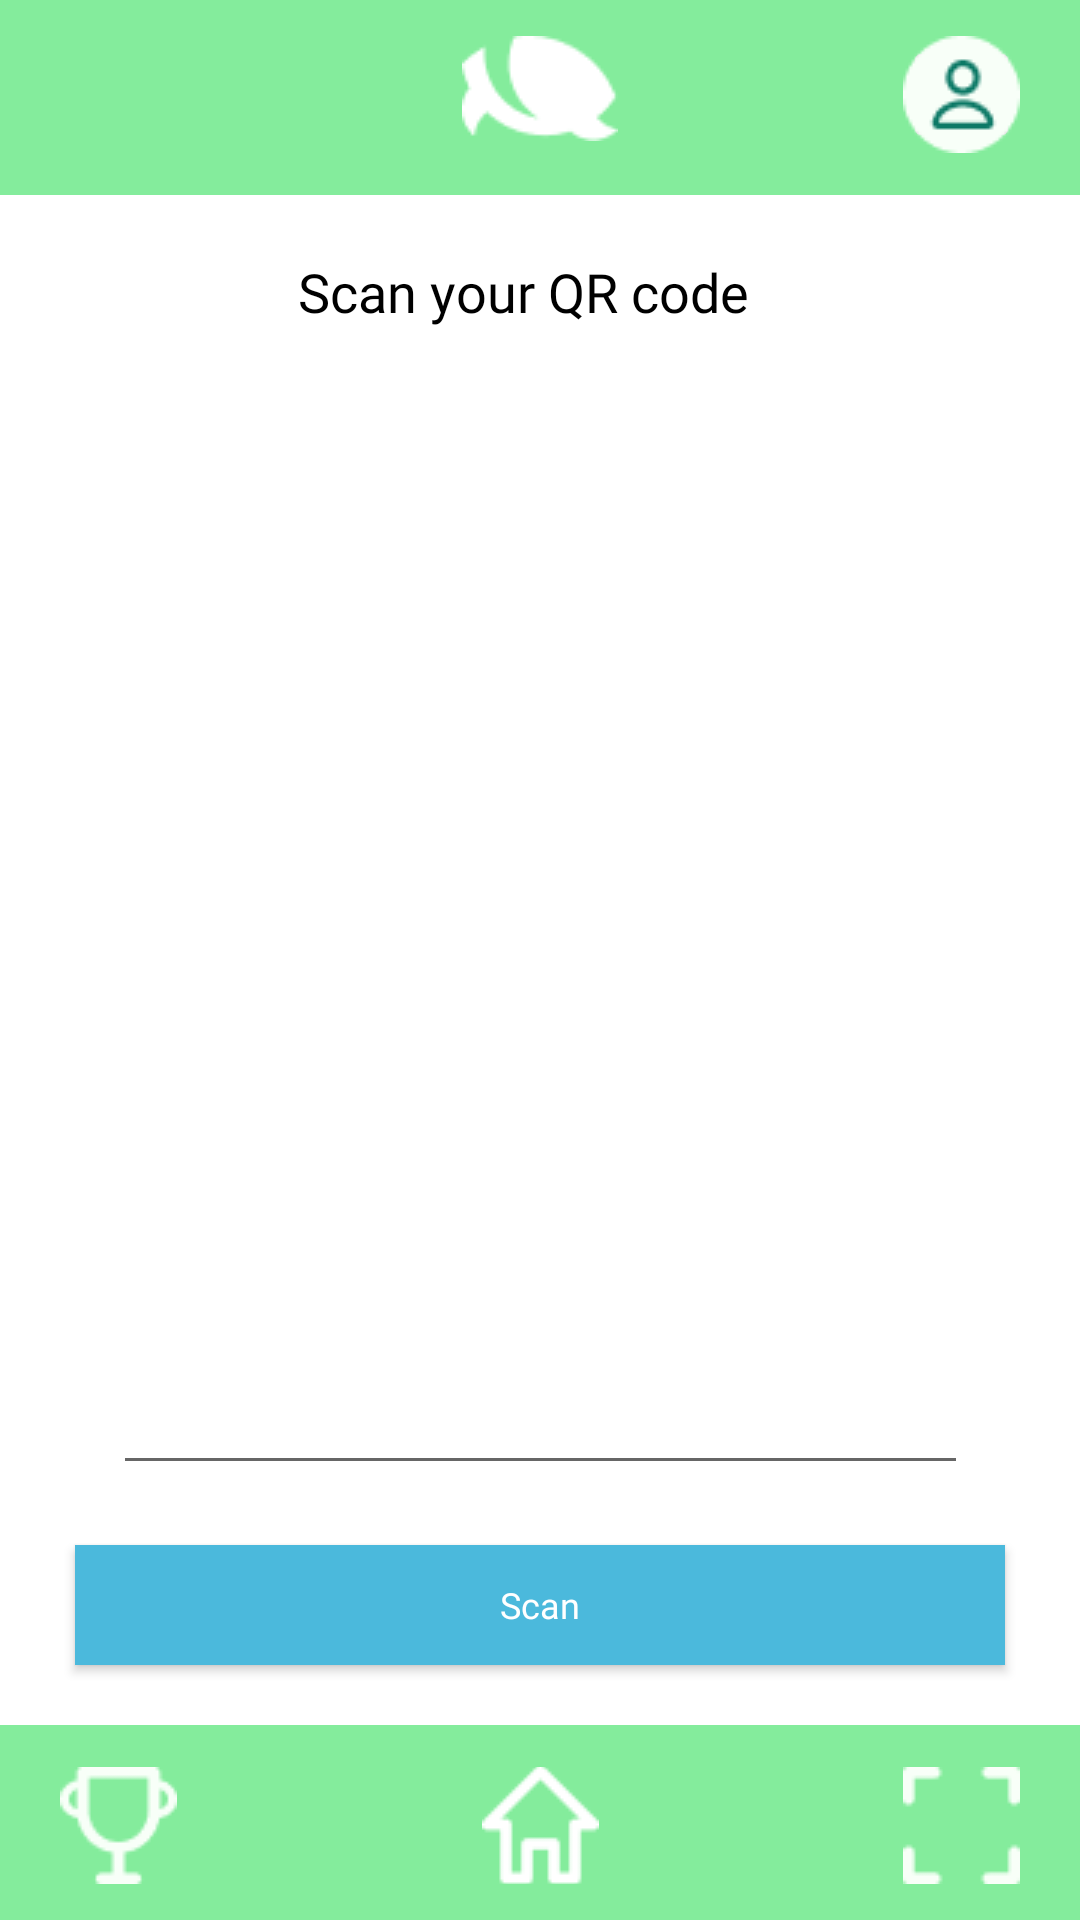

Named icons in this screenshot (1080w x 1920h) and their centers, [x,y]:
profile: [961,94]
